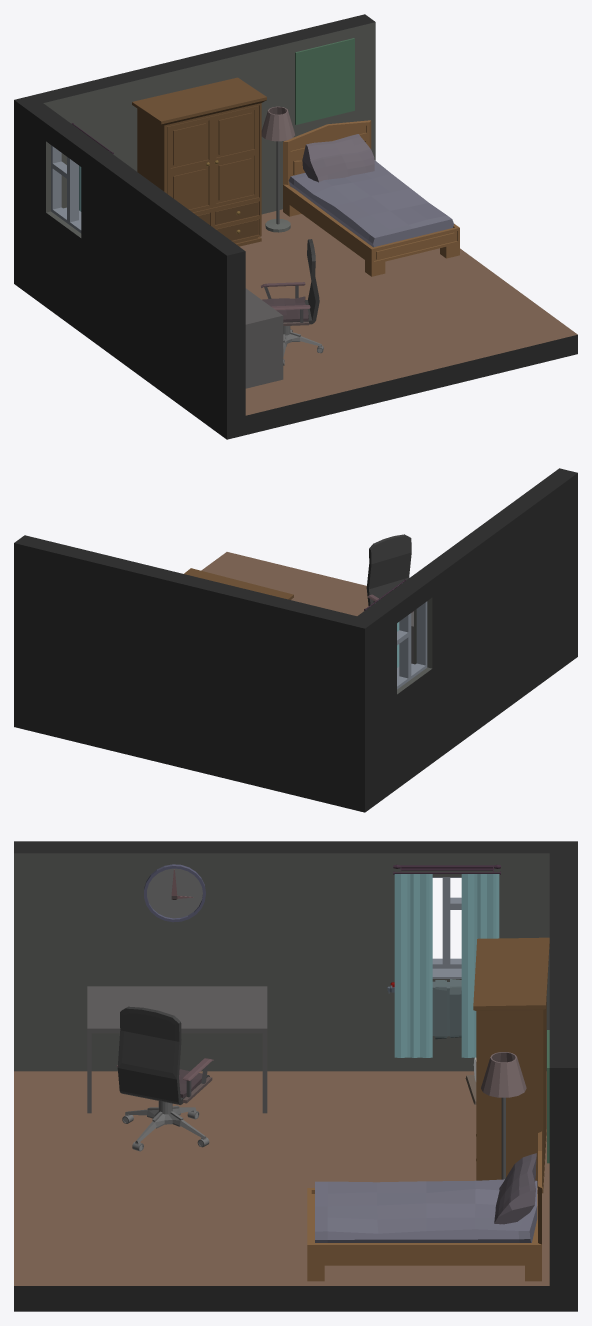
The picture shows the model from 3 angles, top to bottom: view 1: azimuth 30°, elevation 25°; view 2: azimuth 150°, elevation 25°; view 3: azimuth 270°, elevation 25°; orthographic projection. The views are drawn at different scales.
Parts seen in each view (by area): view 1: Cube.047, Cube, Cube.002, Sphere, Cube.003, Cube.001, Cube.009, Cube.006, Cube.005, Cylinder.001, Cube.007, Cube.008; view 2: Cube.002, Cube.047, Cube, Cube.007, Sphere; view 3: Cube, Cube.047, Sphere, Cube.002, Cube.003, Cube.006, Plane, Cube.001, Cube.007, Plane.002, Cylinder.015, Cube.005 (+4 smaller).
Part boxes in pixels (left/top/right/bottom): Cube.047: left=24, top=103, right=245, bottom=439; Cube: left=239, top=209, right=577, bottom=434; Cube.002: left=14, top=14, right=375, bottom=290; Sphere: left=132, top=77, right=266, bottom=246; Cube.003: left=288, top=160, right=453, bottom=247; Cube.001: left=283, top=120, right=459, bottom=276; Cube.009: left=295, top=38, right=354, bottom=124; Cube.006: left=245, top=288, right=283, bottom=388; Cube.005: left=302, top=134, right=374, bottom=182; Cylinder.001: left=261, top=106, right=294, bottom=232; Cube.007: left=261, top=239, right=319, bottom=325; Cube.008: left=262, top=296, right=308, bottom=322; Cube.002: left=14, top=535, right=375, bottom=812; Cube.047: left=357, top=468, right=577, bottom=804; Cube: left=201, top=552, right=368, bottom=615; Cube.007: left=366, top=534, right=411, bottom=605; Sphere: left=184, top=568, right=293, bottom=599; Cube: left=14, top=1071, right=549, bottom=1311; Cube.047: left=14, top=841, right=550, bottom=1071; Sphere: left=473, top=937, right=549, bottom=1193; Cube.002: left=549, top=841, right=577, bottom=1311; Cube.003: left=315, top=1179, right=537, bottom=1242; Cube.006: left=87, top=986, right=267, bottom=1113; Plane: left=394, top=874, right=432, bottom=1057; Cube.001: left=307, top=1131, right=541, bottom=1281; Cube.007: left=116, top=1006, right=213, bottom=1104; Plane.002: left=461, top=874, right=499, bottom=1057; Cylinder.015: left=144, top=864, right=205, bottom=922; Cube.005: left=494, top=1153, right=536, bottom=1224.
Bounding box in the file's own units: 1020 × 511 × 1072.
